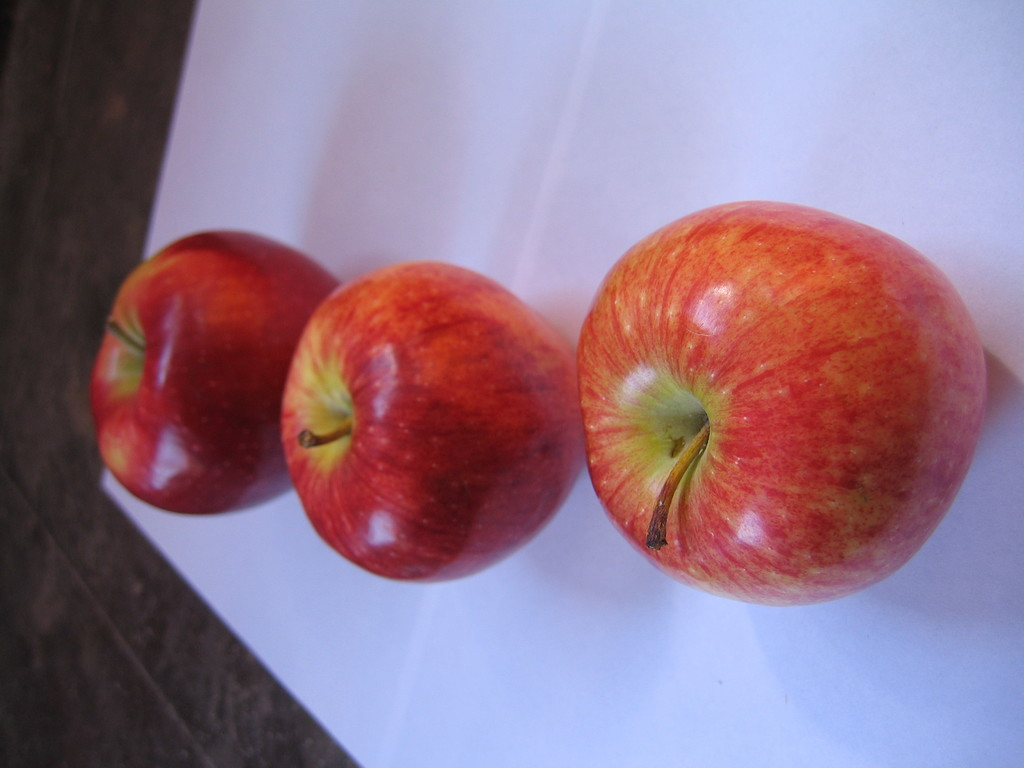Apple: (568, 195, 1002, 609), (273, 264, 579, 584), (84, 234, 344, 519)
